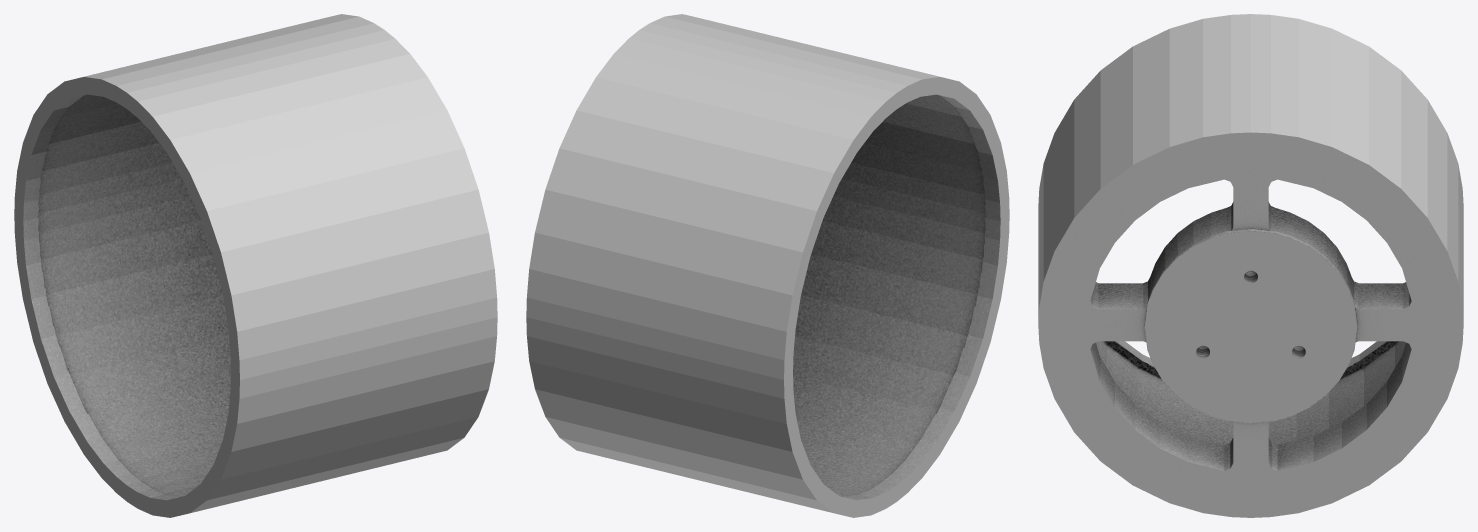
File: wheel_1.0.dae
The picture shows the model from 3 angles, left to right: view 1: azimuth 30°, elevation 25°; view 2: azimuth 150°, elevation 25°; view 3: azimuth 270°, elevation 25°; orthographic projection. The views are drawn at different scales.
Parts seen in each view (by area): view 1: Cylinder_000_001; view 2: Cylinder_000_001; view 3: Cylinder_000_001.
Boxes of the visible parts, x1,y1,x2,y2 form: Cylinder_000_001: (14, 14, 497, 517); Cylinder_000_001: (526, 14, 1009, 517); Cylinder_000_001: (1038, 14, 1463, 517).
Bounding box in the file's own units: 0.3247 × 0.485 × 0.485.
Materials: 1 (1 with a texture image).
